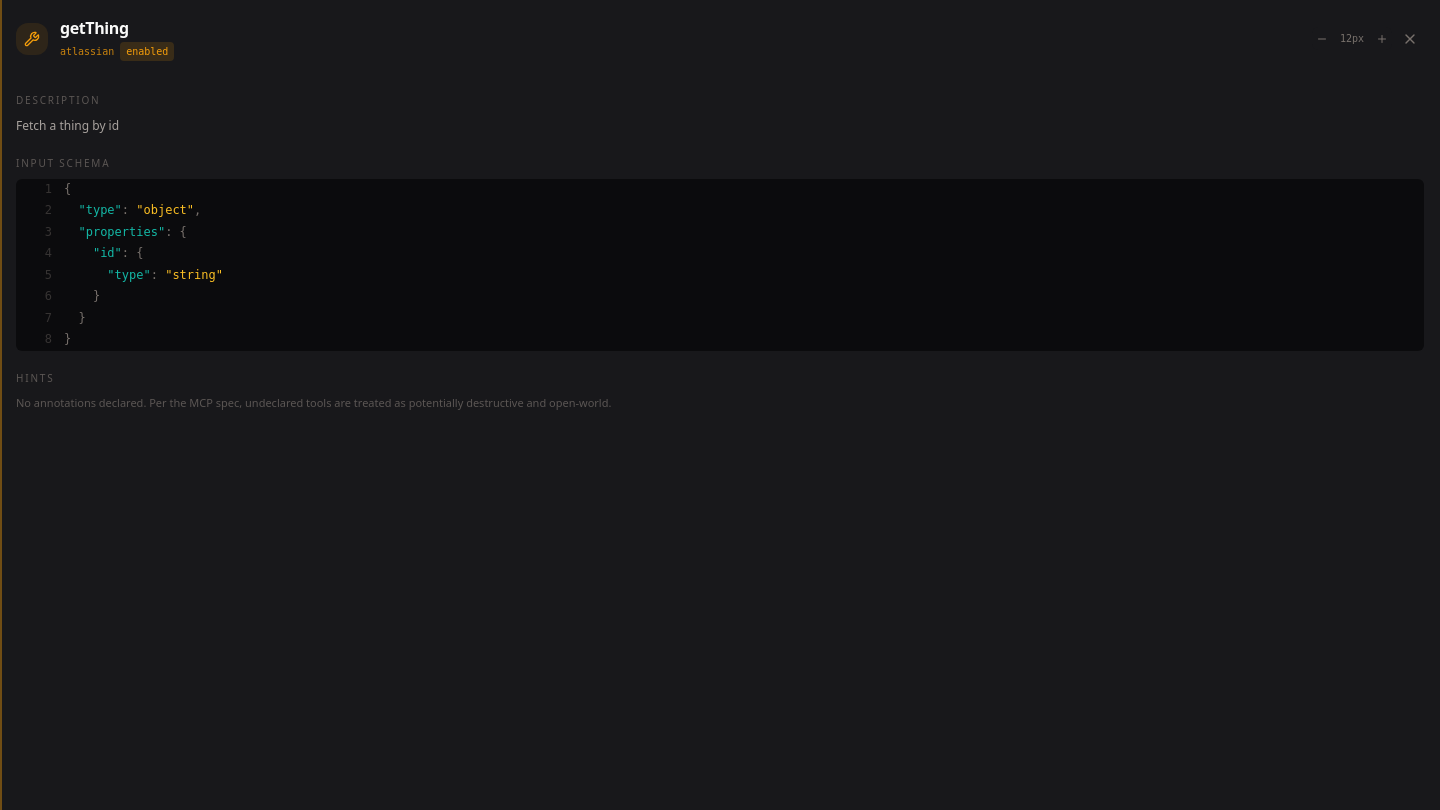
ToolDetailPanel › scales the displayed size when zooming in
Click the button titled "increase font size": (1382, 38) [1372,28,1392,48]
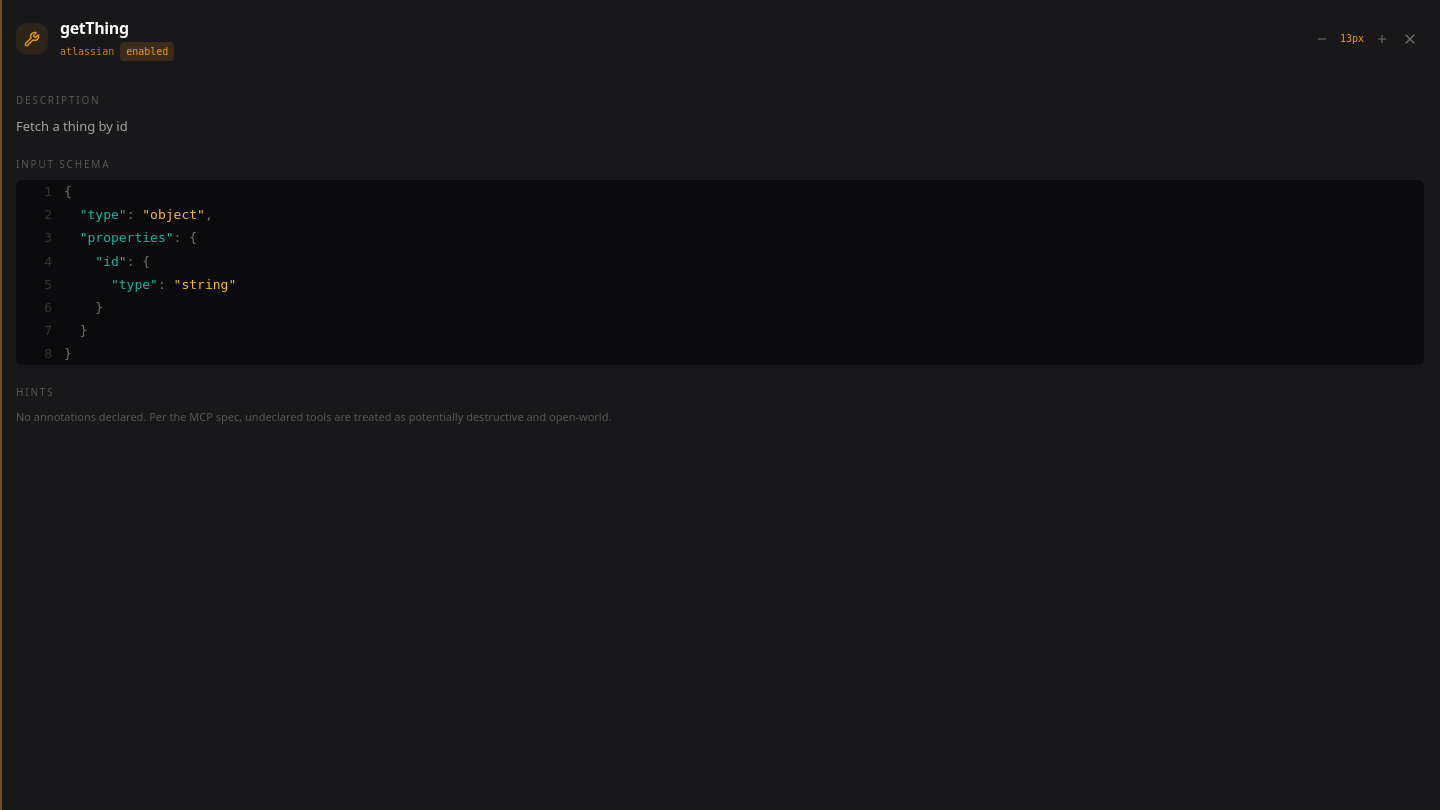
expect the button "13px" is shown: met, box [1334,27,1370,50]
